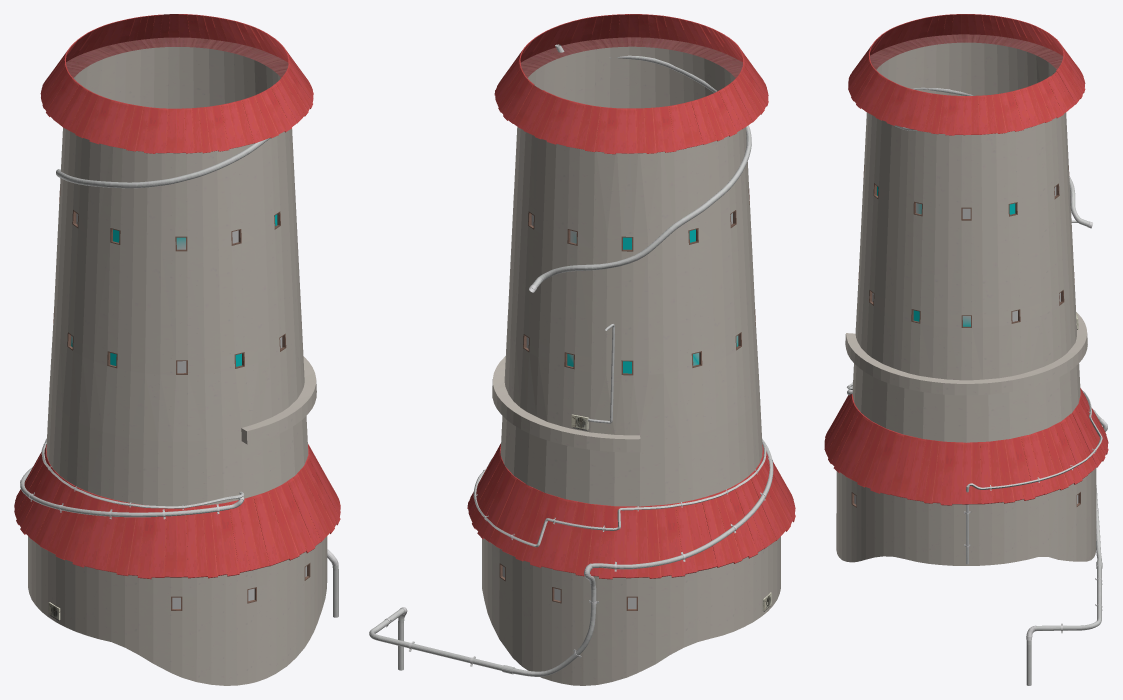
Rendered from SM_ENV_KNVLLG_AreaD_Tower_A_Part02.fbx.
3 views of the same model, side by side, from view 1: azimuth 30°, elevation 25°; view 2: azimuth 150°, elevation 25°; view 3: azimuth 270°, elevation 25° (orthographic). The views are drawn at different scales.
Visible parts, largest first — view 1: SM_ENV_KNVLLG_AreaD_Tower_A_Part02.mo; view 2: SM_ENV_KNVLLG_AreaD_Tower_A_Part02.mo; view 3: SM_ENV_KNVLLG_AreaD_Tower_A_Part02.mo.
Boxes of the visible parts, x1,y1,x2,y2 form: SM_ENV_KNVLLG_AreaD_Tower_A_Part02.mo: [14, 14, 340, 685]; SM_ENV_KNVLLG_AreaD_Tower_A_Part02.mo: [369, 14, 795, 685]; SM_ENV_KNVLLG_AreaD_Tower_A_Part02.mo: [824, 14, 1108, 685].
Size of the model in its own units: 5047 by 8959 by 4217.
